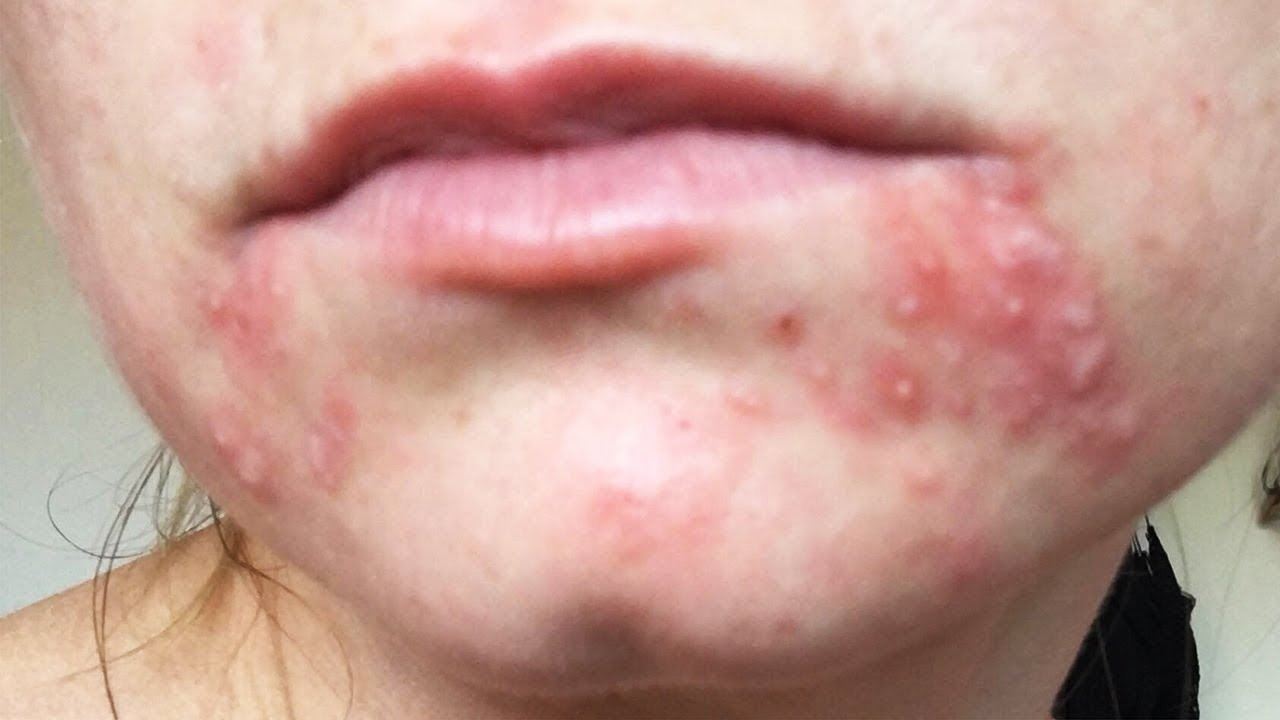Acne: (760, 296, 812, 360), (884, 364, 938, 416), (1000, 284, 1042, 342), (888, 276, 934, 326)
